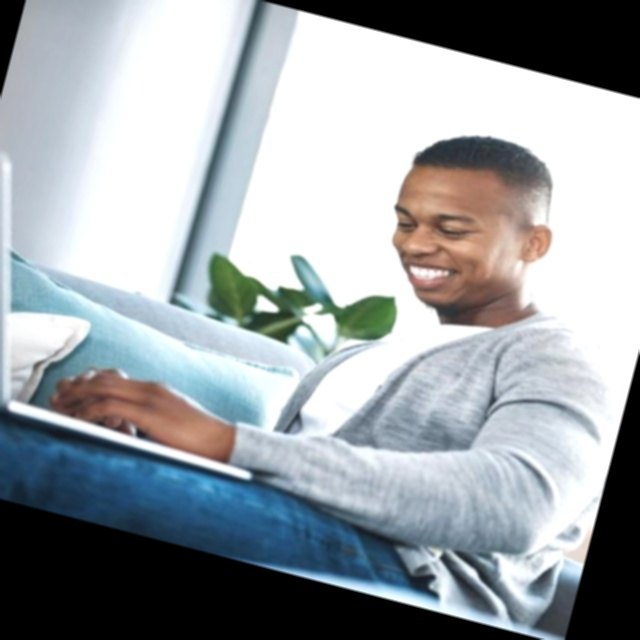Sin_Casco_Mascarrilla: (370, 115, 572, 335)
